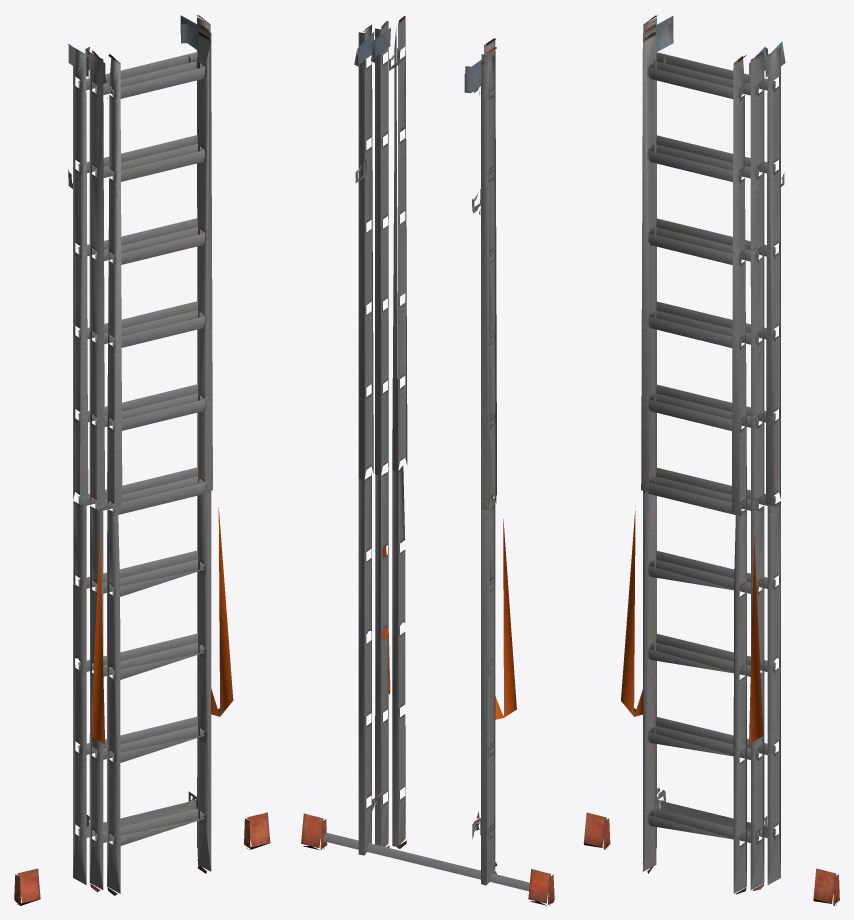
Rendered from ladder.glb.
3 renders of one model, left to right at view 1: azimuth 30°, elevation 25°; view 2: azimuth 150°, elevation 25°; view 3: azimuth 330°, elevation 25°, orthographic.
Parts seen in each view (by area): view 1: ladder; view 2: ladder; view 3: ladder.
Part boxes in pixels (x1,y1,x2,y2): ladder: (14, 15, 270, 905); ladder: (301, 16, 554, 905); ladder: (583, 15, 839, 905).
Bounding box in the file's own units: 0.6643 × 2.13 × 0.1836.
1 material, 1 textured.
